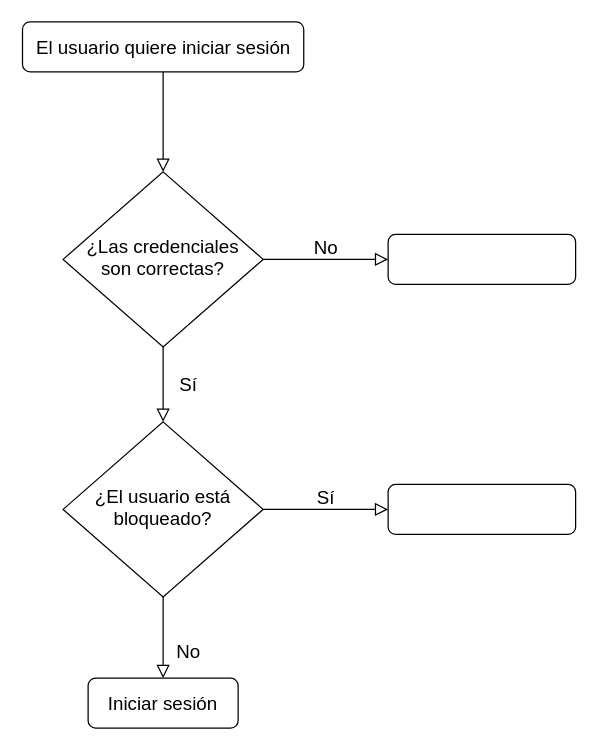
The diagram is 598 pixels wide and 750 high, and some of its shapes have lost their labels. Each missing label, with the centre of its shape:
"Denegar acceso" belongs at point 481,508.
"Solicitar credenciales de nuevo" belongs at point 481,258.
